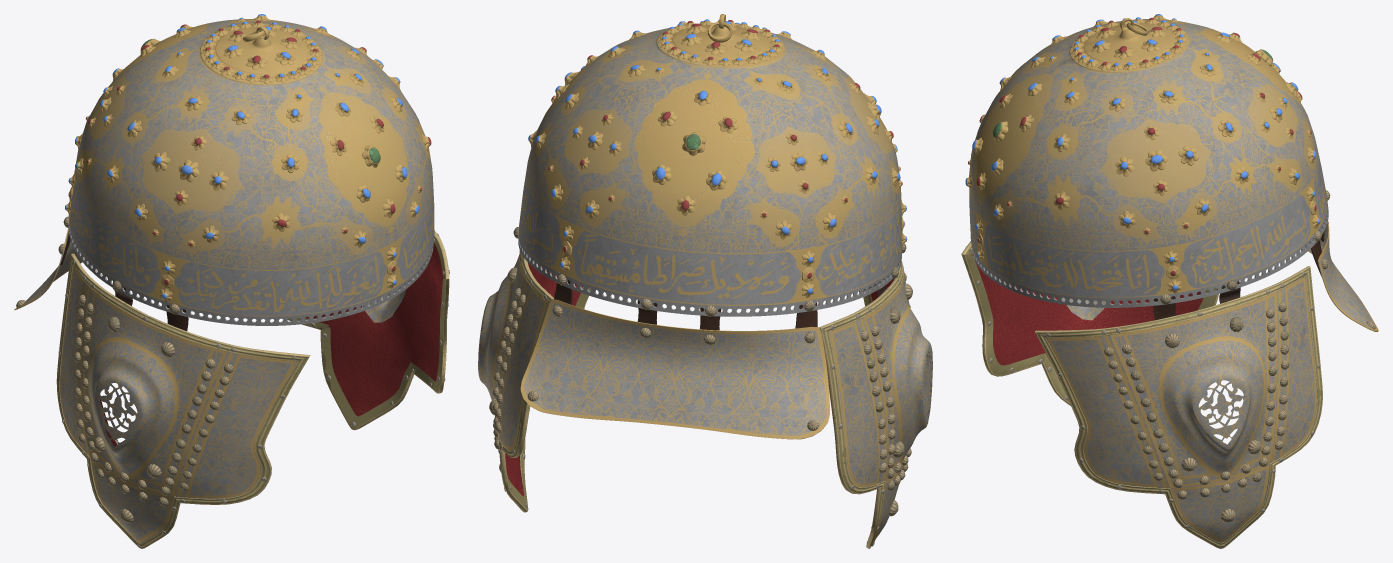
Rendered from Old_Islamic_Helmet.glb.
3 views of the same model, side by side, from view 1: azimuth 30°, elevation 25°; view 2: azimuth 150°, elevation 25°; view 3: azimuth 270°, elevation 25° (orthographic). The views are drawn at different scales.
Visible parts, largest first — view 1: top holmet_top holmet_0_0, EAR PART_EAR PART_0_0, TEXT EAR PART_TEXT EAR PART_0_0, Jewels_Jewels_0_0, RED FABRIC_RED FABRIC_0_0, cooper frame_cooper frame_0_0, star nulls_star nulls_0_0, circal c_circal c_0, METAL BACK PART_METAL BACK PART_0_0, LETHAER_LETHAER_0_0, nulls_nulls_0; view 2: top holmet_top holmet_0_0, METAL BACK PART_METAL BACK PART_0_0, Jewels_Jewels_0_0, TEXT EAR PART_TEXT EAR PART_0_0, EAR PART_EAR PART_0_0, cooper frame_cooper frame_0_0, star nulls_star nulls_0_0, circal c_circal c_0, LETHAER_LETHAER_0_0, RED FABRIC_RED FABRIC_0_0; view 3: top holmet_top holmet_0_0, EAR PART_EAR PART_0_0, TEXT EAR PART_TEXT EAR PART_0_0, Jewels_Jewels_0_0, cooper frame_cooper frame_0_0, RED FABRIC_RED FABRIC_0_0, star nulls_star nulls_0_0, circal c_circal c_0, METAL BACK PART_METAL BACK PART_0_0, LETHAER_LETHAER_0_0, nulls_nulls_0.
Part boxes in pixels (box(x1,y1,x2,y2)): top holmet_top holmet_0_0: box(68, 19, 434, 316); EAR PART_EAR PART_0_0: box(83, 284, 405, 496); TEXT EAR PART_TEXT EAR PART_0_0: box(60, 265, 410, 542); Jewels_Jewels_0_0: box(65, 14, 431, 301); RED FABRIC_RED FABRIC_0_0: box(100, 243, 443, 446); cooper frame_cooper frame_0_0: box(56, 231, 449, 548); star nulls_star nulls_0_0: box(16, 216, 233, 522); circal c_circal c_0: box(68, 217, 433, 325); METAL BACK PART_METAL BACK PART_0_0: box(14, 229, 82, 310); LETHAER_LETHAER_0_0: box(60, 233, 188, 331); nulls_nulls_0: box(58, 233, 449, 547); top holmet_top holmet_0_0: box(518, 14, 902, 305); METAL BACK PART_METAL BACK PART_0_0: box(520, 299, 829, 439); Jewels_Jewels_0_0: box(528, 19, 907, 297); TEXT EAR PART_TEXT EAR PART_0_0: box(498, 282, 903, 539); EAR PART_EAR PART_0_0: box(478, 252, 932, 480); cooper frame_cooper frame_0_0: box(499, 252, 904, 548); star nulls_star nulls_0_0: box(489, 227, 912, 516); circal c_circal c_0: box(518, 233, 902, 316); LETHAER_LETHAER_0_0: box(554, 280, 885, 330); RED FABRIC_RED FABRIC_0_0: box(505, 263, 894, 496); top holmet_top holmet_0_0: box(969, 18, 1327, 298); EAR PART_EAR PART_0_0: box(1062, 292, 1277, 488); TEXT EAR PART_TEXT EAR PART_0_0: box(1045, 276, 1317, 542); Jewels_Jewels_0_0: box(965, 14, 1320, 293); cooper frame_cooper frame_0_0: box(961, 241, 1322, 548); RED FABRIC_RED FABRIC_0_0: box(970, 254, 1203, 381); star nulls_star nulls_0_0: box(1104, 190, 1375, 522); circal c_circal c_0: box(971, 204, 1328, 307); METAL BACK PART_METAL BACK PART_0_0: box(1304, 222, 1378, 331); LETHAER_LETHAER_0_0: box(1153, 231, 1324, 320); nulls_nulls_0: box(965, 246, 1320, 547).
Bounding box in the file's own units: 9.5 × 12 × 9.58.
12 materials, 12 textured.
